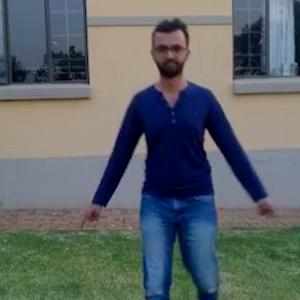land: (78, 25, 272, 282)
